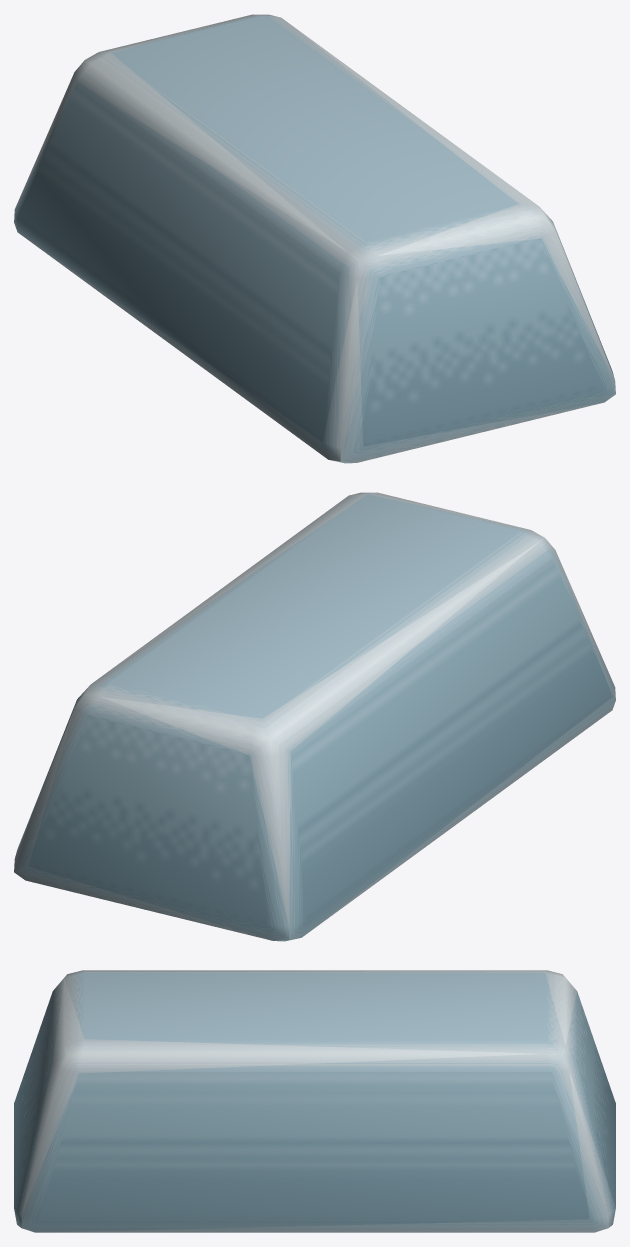
File: Silver_Bar.gltf
The picture shows the model from 3 angles, top to bottom: view 1: azimuth 30°, elevation 25°; view 2: azimuth 150°, elevation 25°; view 3: azimuth 270°, elevation 25°; orthographic projection. The views are drawn at different scales.
Visible parts, largest first — view 1: Silver_Bar; view 2: Silver_Bar; view 3: Silver_Bar.
Boxes of the visible parts, x1,y1,x2,y2 form: Silver_Bar: (14,14,615,463); Silver_Bar: (14,492,615,941); Silver_Bar: (14,970,615,1232).
Bounding box in the file's own units: 0.4 × 0.25 × 0.8.
1 material, 1 textured.
